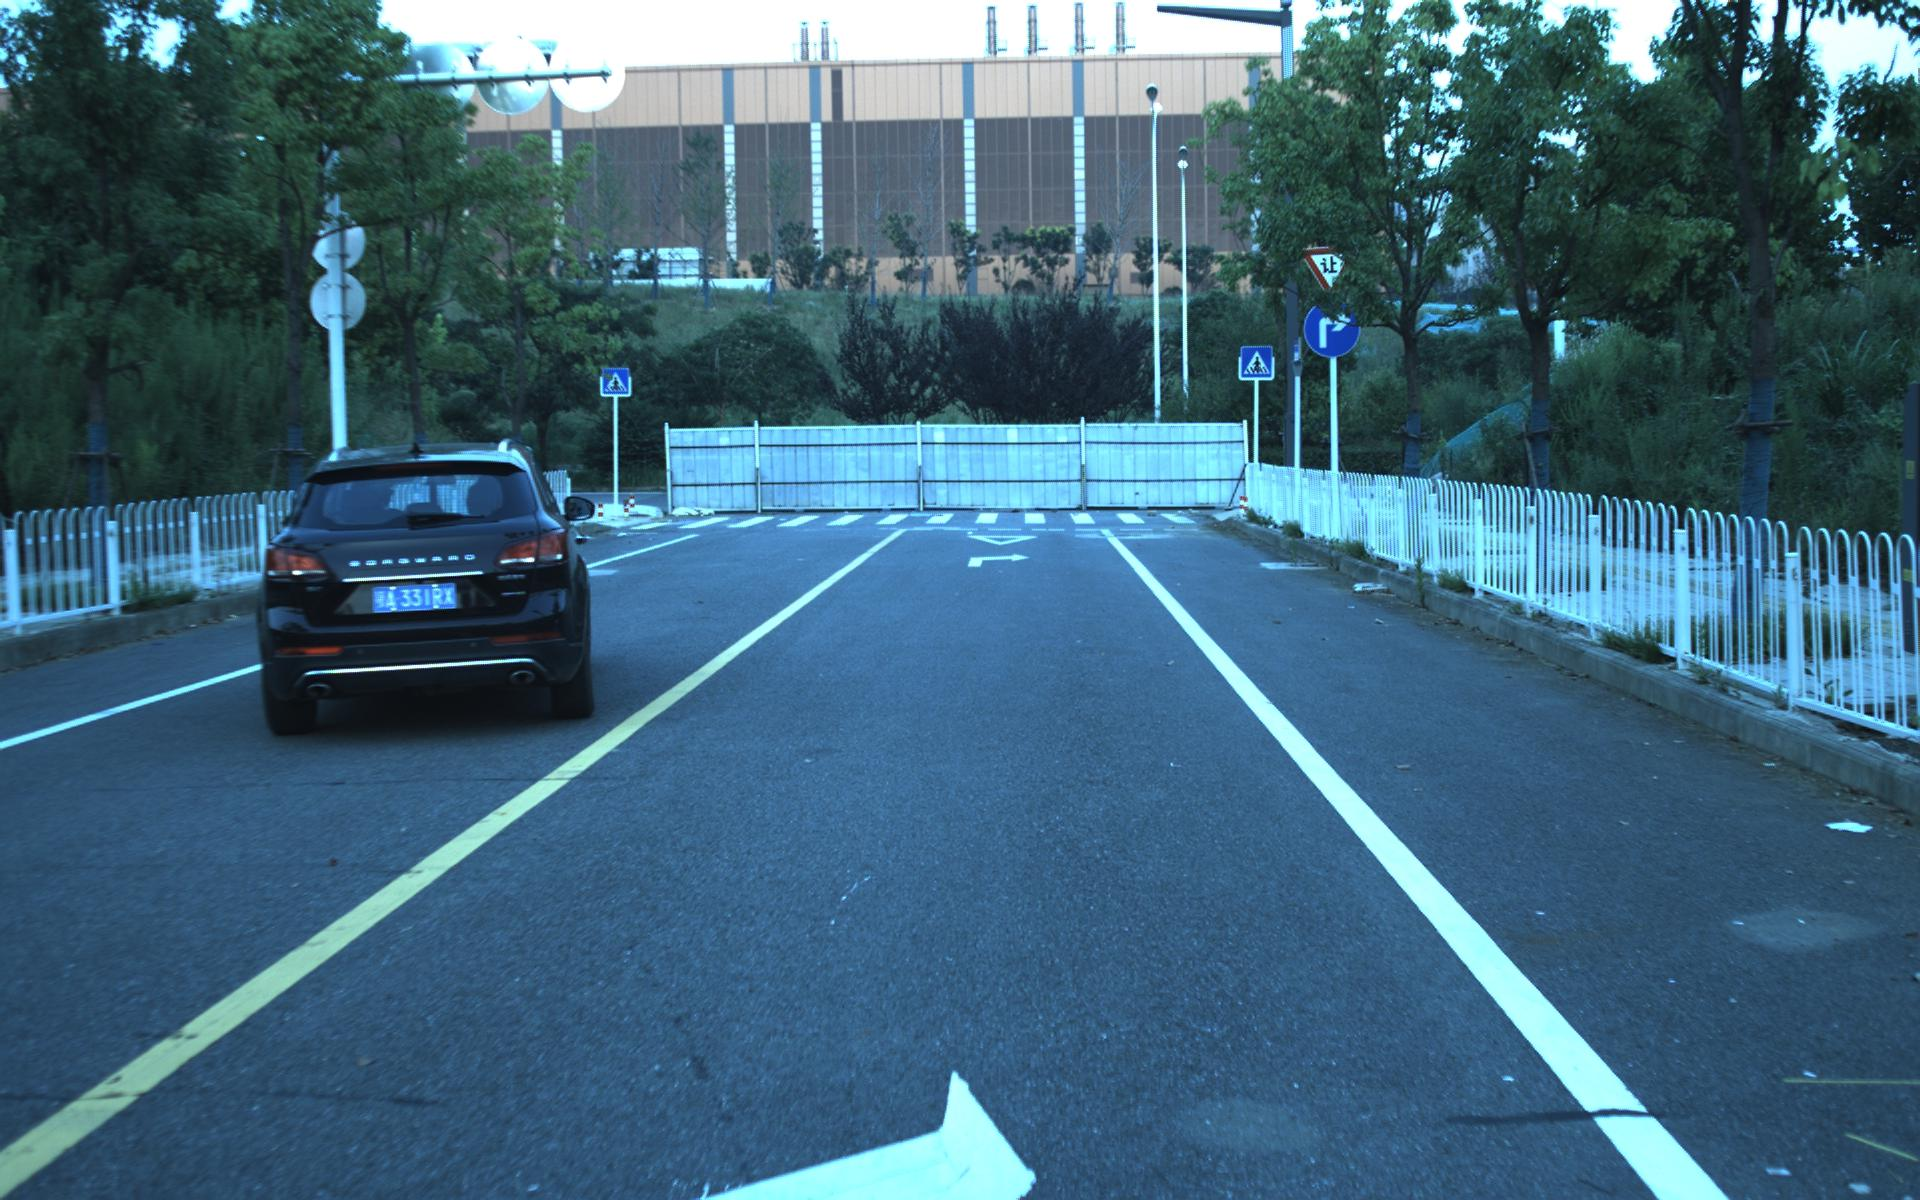Car: (247, 434, 603, 740)
